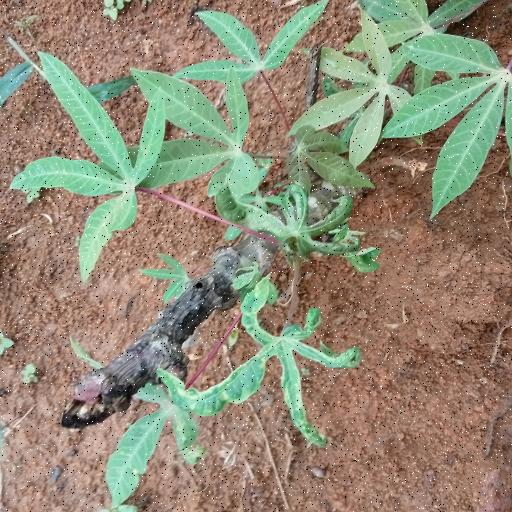Cassava_Mosaic: (21, 46, 167, 278), (220, 282, 358, 426), (298, 22, 423, 167), (128, 67, 266, 195), (102, 383, 206, 511)
